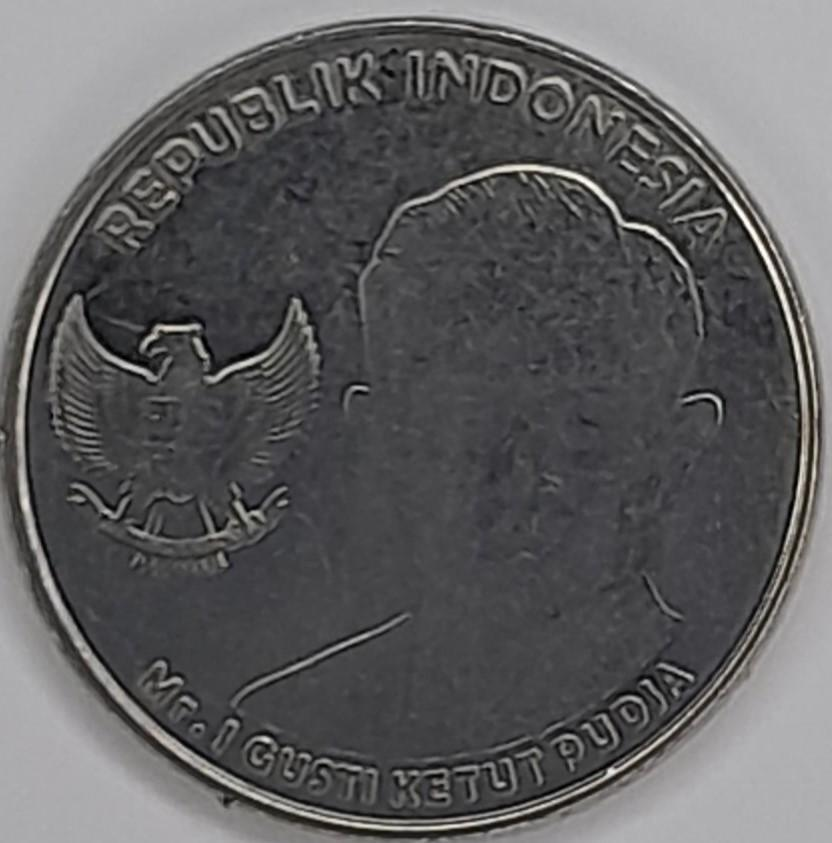coin_1000_e2016: (14, 17, 821, 843)
